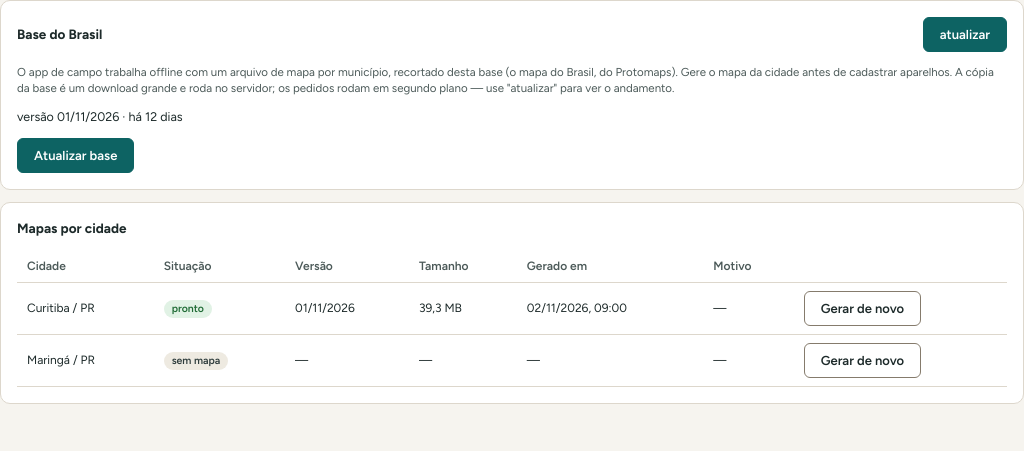
FieldMaps › gerar: uma mutation só, com o slug; depois relê e diz que o job roda em segundo plano
The image size is (1024, 451).
Double-click the button with aria-label "Gerar de novo Maringá" at point(862, 361), box x1=804 y1=343 x2=921 y2=378
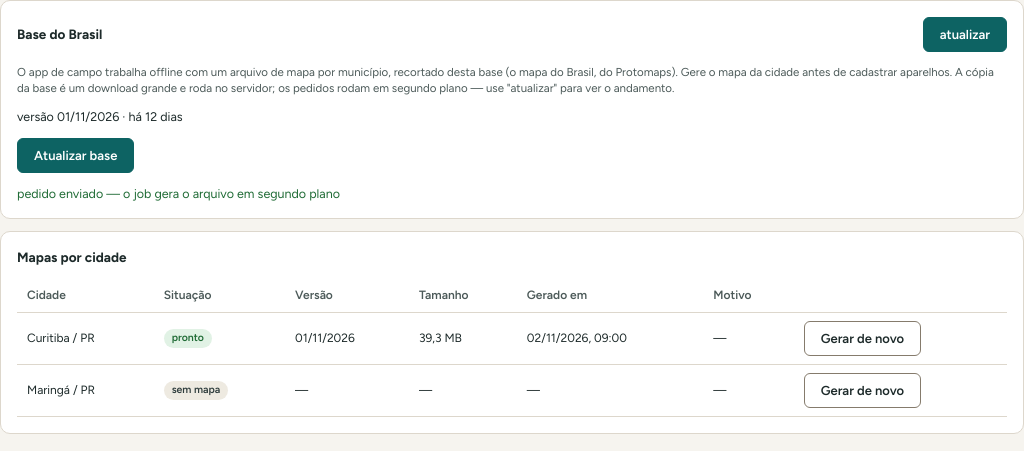
Check: the message reads "pedido enviado — o job gera o arquivo em segundo plano", box x1=17 y1=186 x2=340 y2=201
